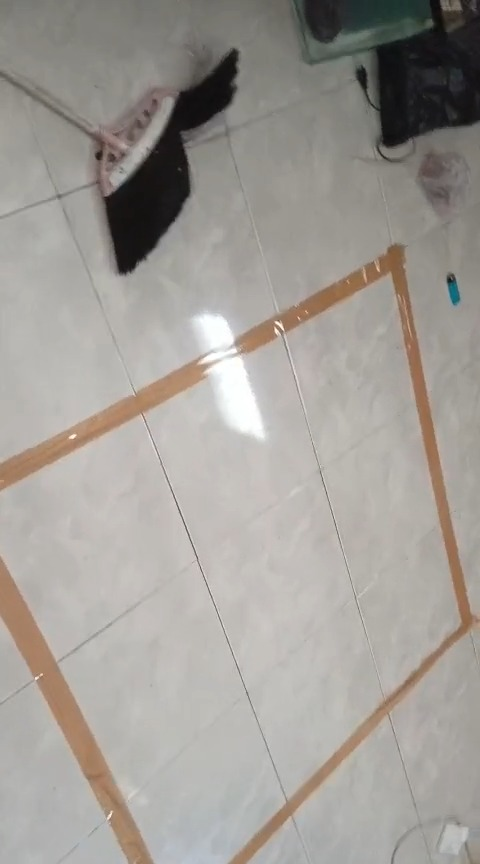floor marking: (0, 245, 479, 863), (0, 560, 152, 863)
